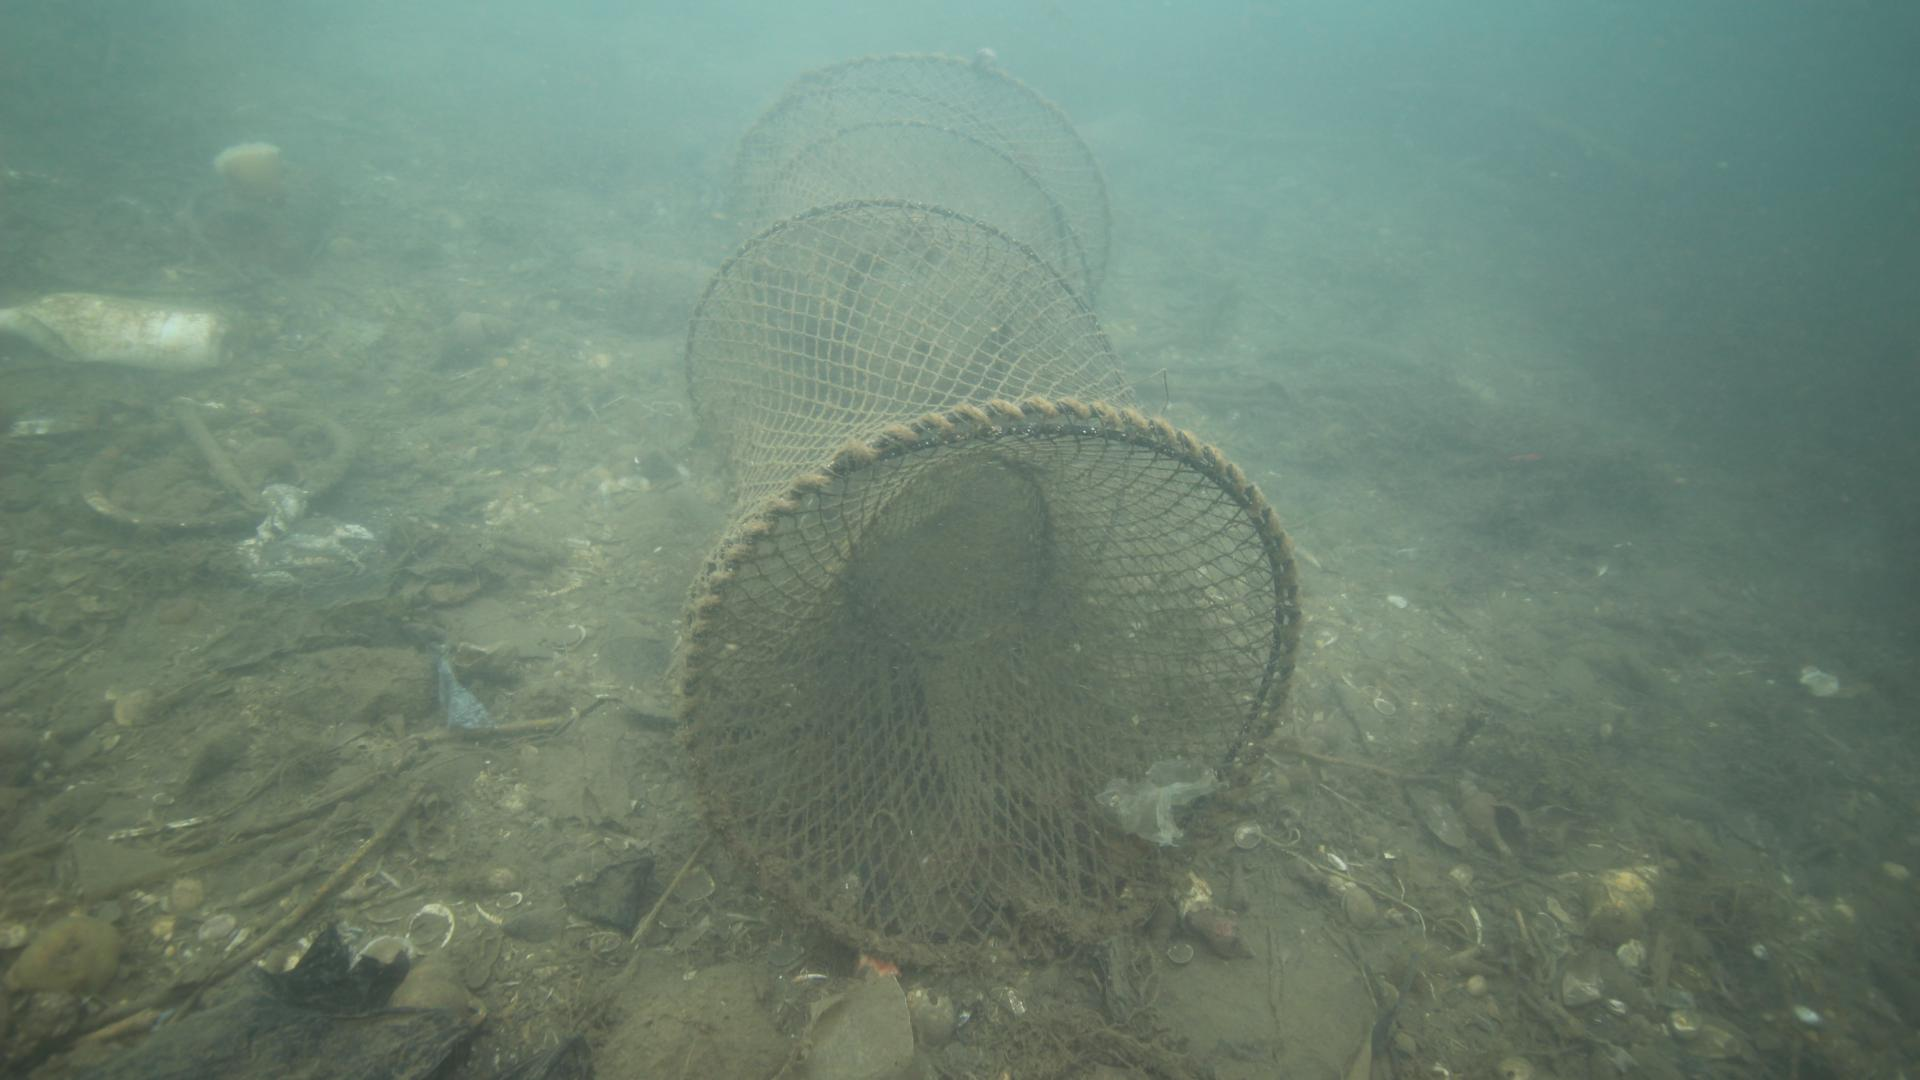spring fish trap: (676, 49, 1303, 971)
